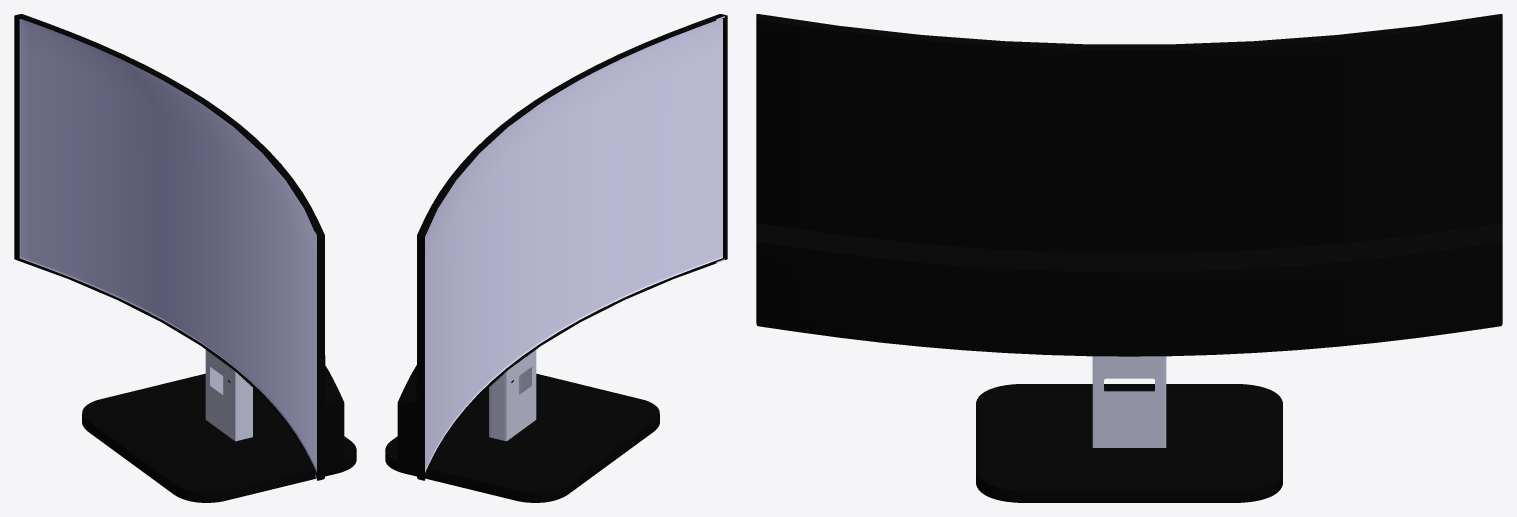
File: monitor.glb
3 renders of one model, left to right at view 1: azimuth 30°, elevation 25°; view 2: azimuth 150°, elevation 25°; view 3: azimuth 270°, elevation 25°, orthographic. The views are drawn at different scales.
Visible parts, largest first — view 1: Monitor_0; view 2: Monitor_0; view 3: Monitor_0.
Boxes of the visible parts, x1,y1,x2,y2 form: Monitor_0: [14, 14, 356, 502]; Monitor_0: [385, 14, 727, 502]; Monitor_0: [756, 14, 1502, 502].
Size of the model in its own units: 0.3412 by 0.604 by 1.01.
